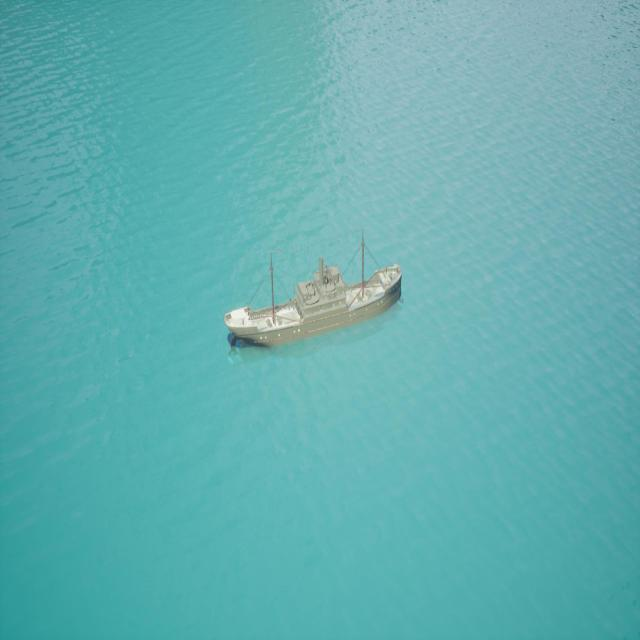fishing ship: (225, 254, 404, 354)
